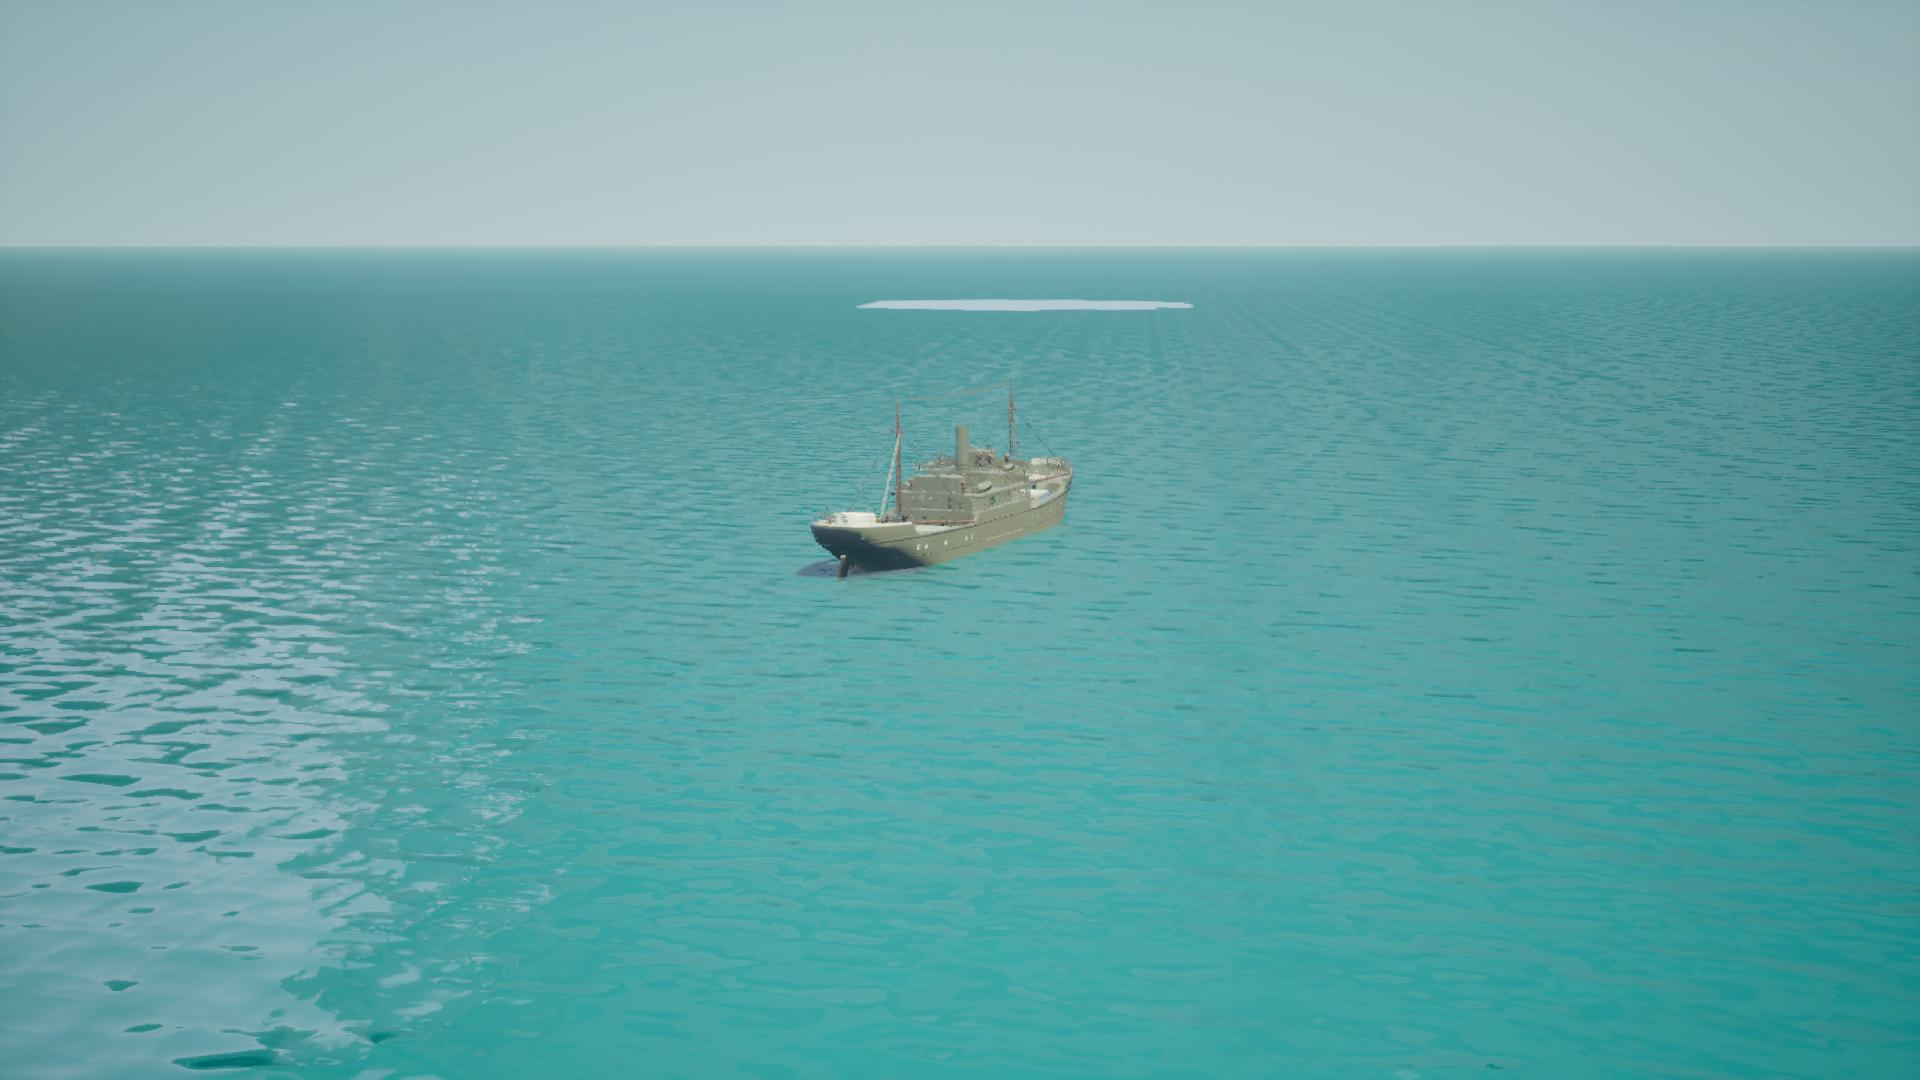Fishing Boat: (800, 389, 1073, 576)
